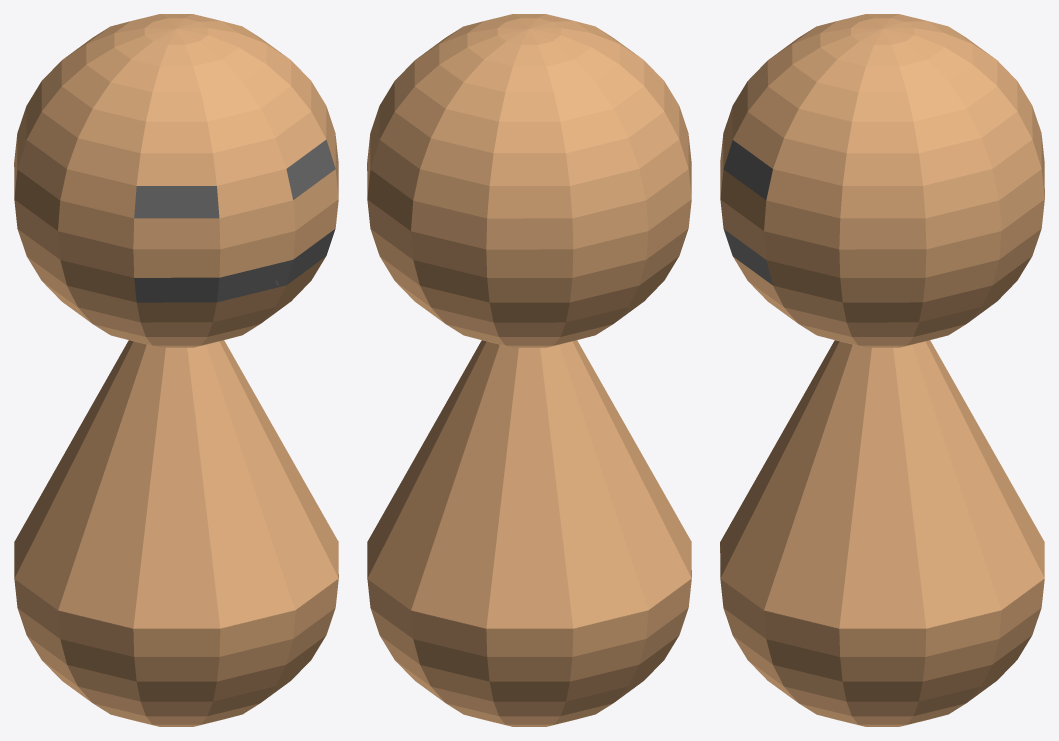
The model's file is Nudist.glb.
The picture shows the model from 3 angles, left to right: view 1: azimuth 30°, elevation 25°; view 2: azimuth 150°, elevation 25°; view 3: azimuth 270°, elevation 25°; orthographic projection.
Visible parts, largest first — view 1: Цилиндр.002; view 2: Цилиндр.002; view 3: Цилиндр.002.
Boxes of the visible parts, x1,y1,x2,y2 form: Цилиндр.002: (14, 14, 338, 726); Цилиндр.002: (367, 14, 691, 726); Цилиндр.002: (720, 14, 1044, 726).
Size of the model in its own units: 0.8453 by 1.96 by 0.8455.
